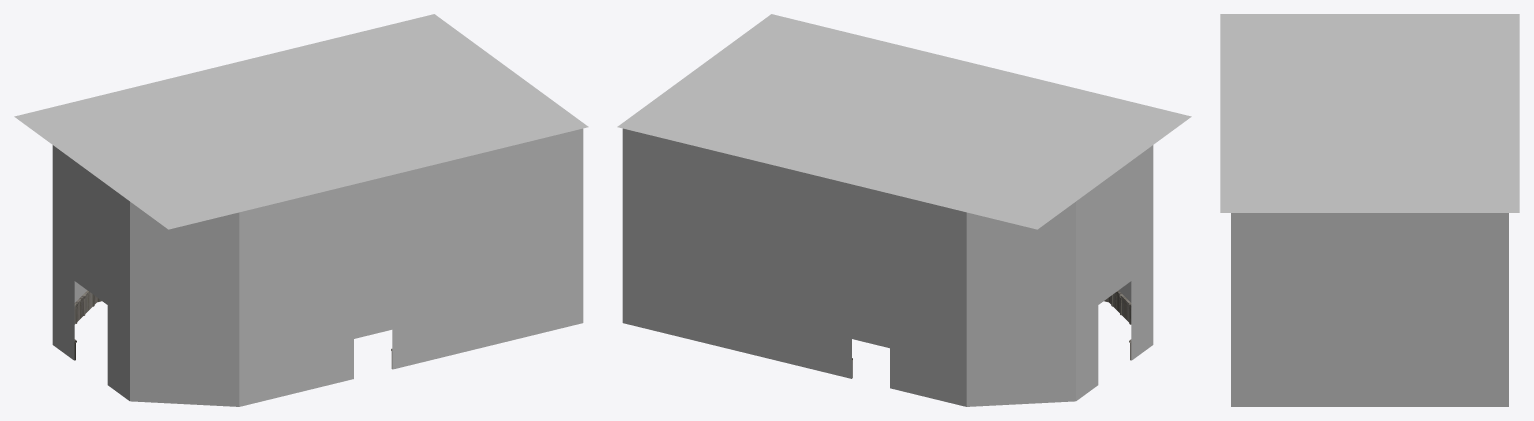
The model's file is SM_Hall.fbx.
The picture shows the model from 3 angles, left to right: view 1: azimuth 30°, elevation 25°; view 2: azimuth 150°, elevation 25°; view 3: azimuth 270°, elevation 25°; orthographic projection. The views are drawn at different scales.
Parts seen in each view (by area): view 1: SM_Hall; view 2: SM_Hall; view 3: SM_Hall.
Part boxes in pixels (x1,y1,x2,y2): SM_Hall: (14,14,588,406); SM_Hall: (617,14,1191,406); SM_Hall: (1220,14,1519,406).
Size of the model in its own units: 2200 by 1000 by 1400.
